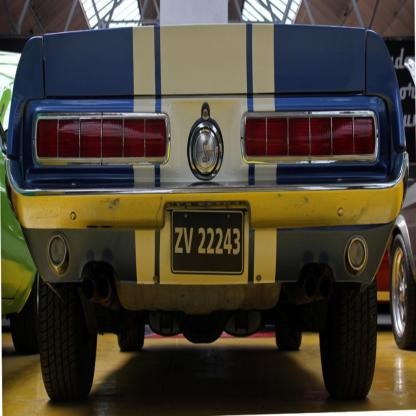Car: (5, 28, 409, 405), (1, 89, 39, 352), (390, 183, 416, 346)
